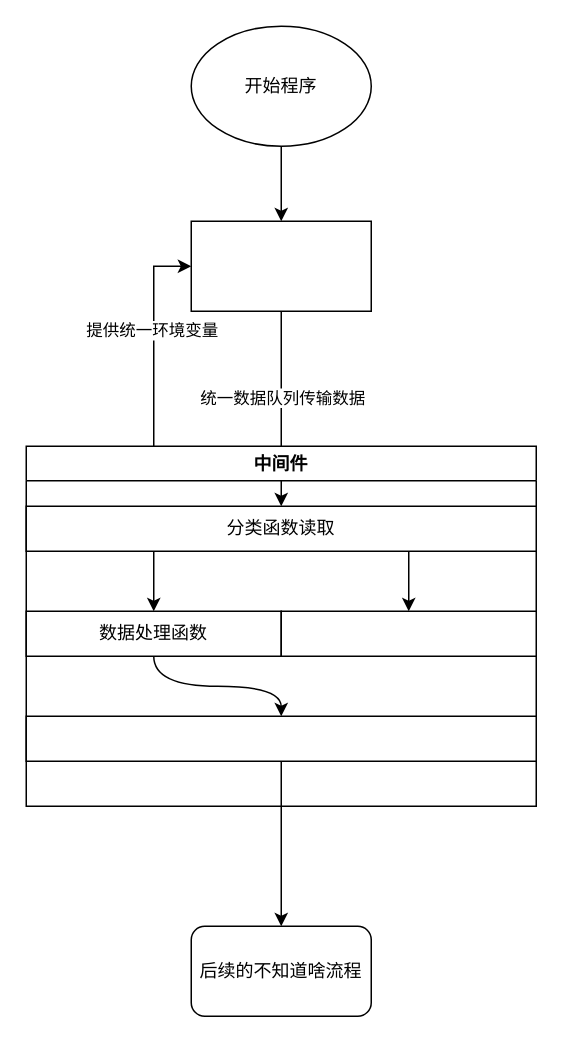
Image size: 563x1043. Some labels were removed from this diagram. Each missing label, with the centre of its shape:
各数据队列: pixel 280 738
启动所有端口数据接受以及雷达数据接受: pixel 280 265
状态检查函数: pixel 408 633
